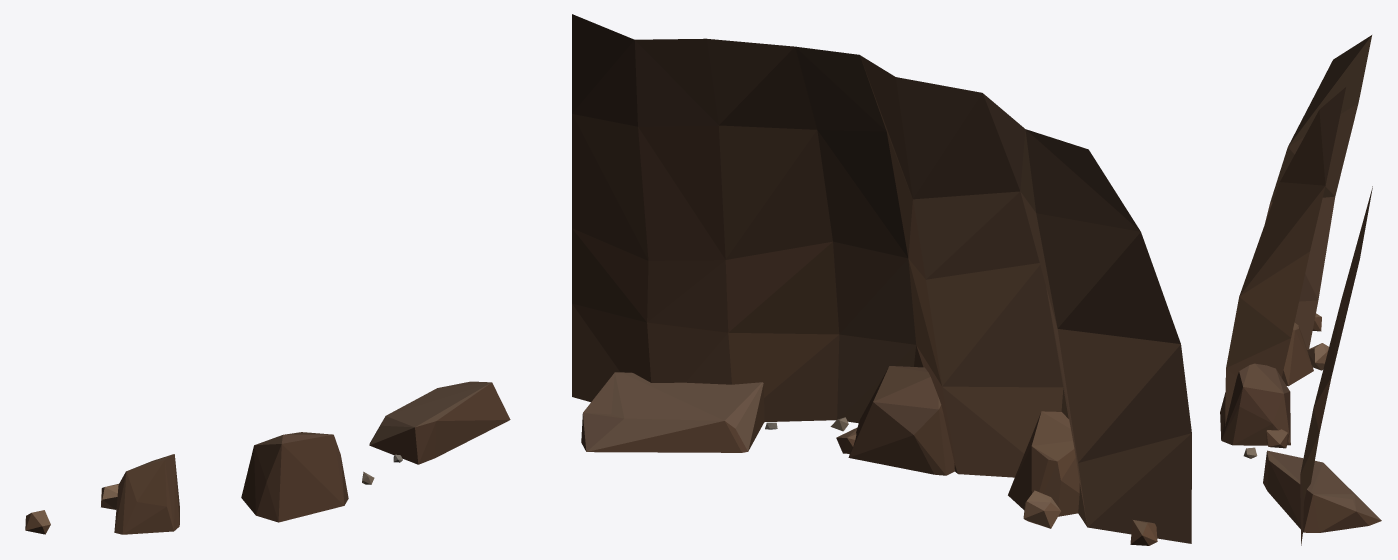
Rendered from tl_env_cave_wall_04_v01.glb.
3 views of the same model, side by side, from view 1: azimuth 30°, elevation 25°; view 2: azimuth 150°, elevation 25°; view 3: azimuth 270°, elevation 25° (orthographic). The views are drawn at different scales.
Parts seen in each view (by area): view 1: tl_env_cave_wall_04_v01; view 2: tl_env_cave_wall_04_v01; view 3: tl_env_cave_wall_04_v01.
Boxes of the visible parts, bbox=[...] form: tl_env_cave_wall_04_v01: bbox=[25, 381, 510, 534]; tl_env_cave_wall_04_v01: bbox=[572, 14, 1191, 545]; tl_env_cave_wall_04_v01: bbox=[1220, 35, 1381, 545].
Bounding box in the file's own units: 20.51 × 13.86 × 6.17.
